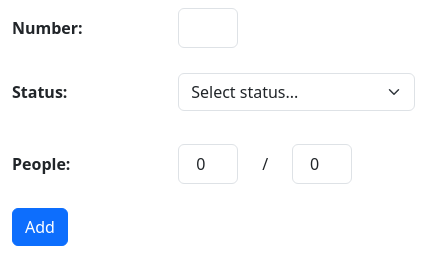
FormTable component › should render a value of max people amount value in range of 0-10
Replace the text in the number field with test id "max-people-amount" with "5" at point(322, 164), box [292,144,352,184]
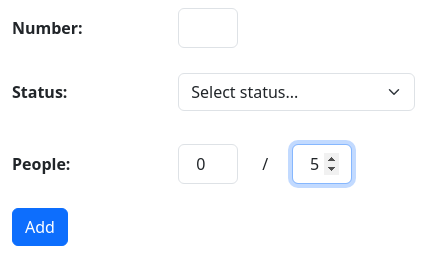
Replace the text in the number field with test id "max-people-amount" with "-5" at point(322, 164), box [292,144,352,184]
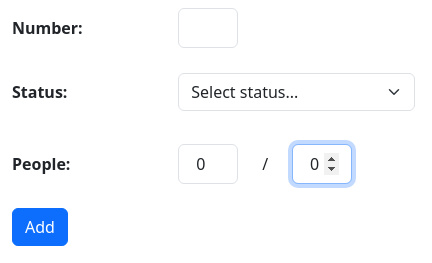
Result: the number field with test id "max-people-amount" holds "0"
Replace the text in the number field with test id "max-people-amount" with "20" at point(322, 164), box [292,144,352,184]
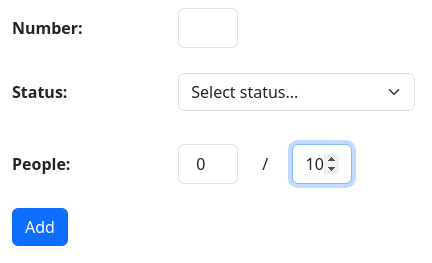
Result: the number field with test id "max-people-amount" holds "10" at [292,144,352,184]
